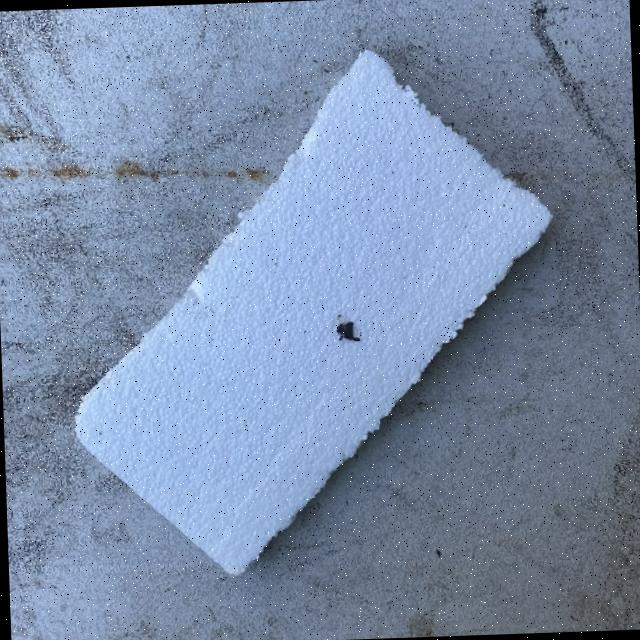styrofoam: (58, 39, 564, 582)
